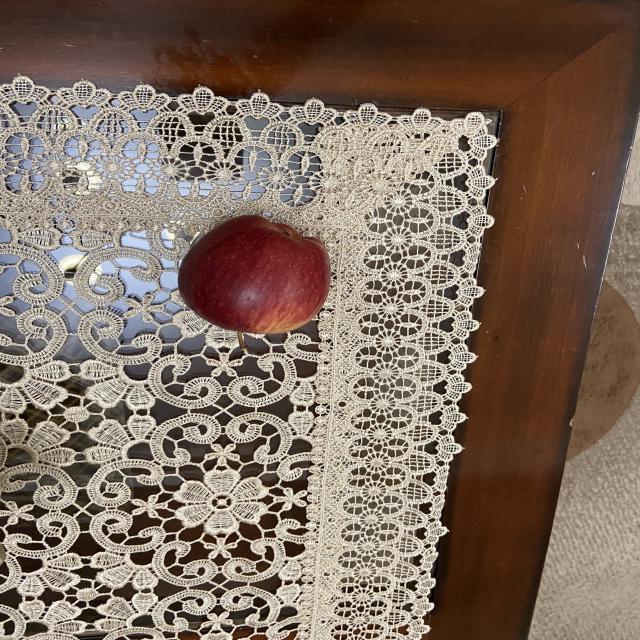apple: (178, 212, 340, 344)
